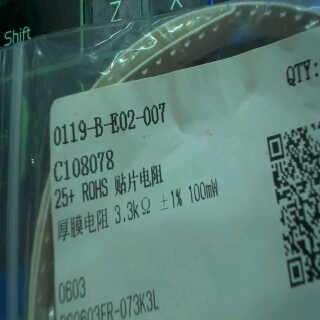3.3kO: (110, 193, 153, 228)
